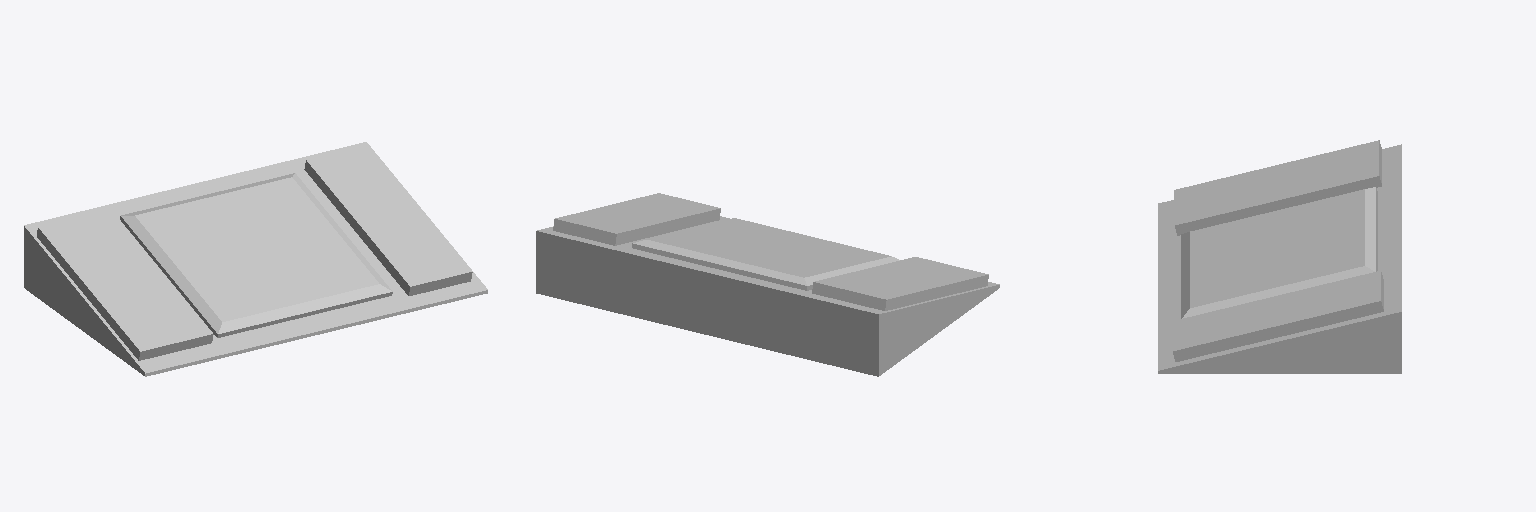
3 renders of one model, left to right at view 1: azimuth 30°, elevation 25°; view 2: azimuth 150°, elevation 25°; view 3: azimuth 270°, elevation 25°, orthographic.
Visible parts, largest first — view 1: Base_BaseMesh; view 2: Base_BaseMesh; view 3: Base_BaseMesh.
Part boxes in pixels (x1,y1,x2,y2): Base_BaseMesh: (24,142,487,376); Base_BaseMesh: (536,193,999,376); Base_BaseMesh: (1158,140,1401,373).
Bounding box in the file's own units: 22 × 4.24 × 13.53.